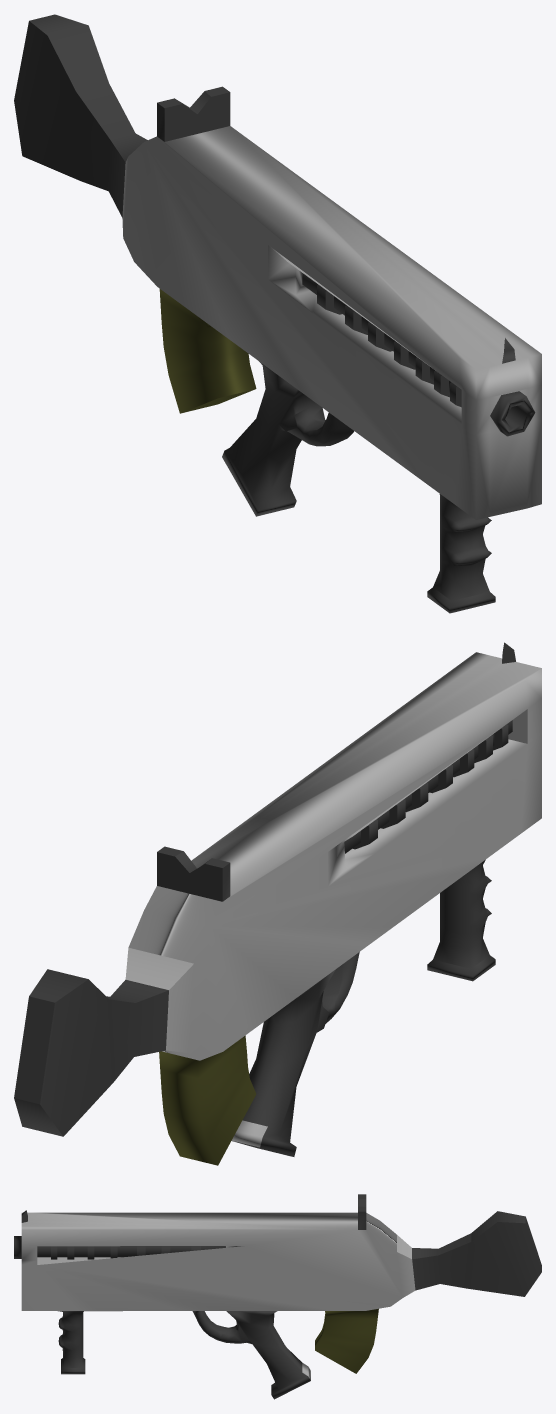
Rendered from ASSAULT_RIFLE.fbx.
3 renders of one model, top to bottom at view 1: azimuth 30°, elevation 25°; view 2: azimuth 150°, elevation 25°; view 3: azimuth 270°, elevation 25°, orthographic. The views are drawn at different scales.
Visible parts, largest first — view 1: ASSAULT_RIFLE; view 2: ASSAULT_RIFLE; view 3: ASSAULT_RIFLE.
Boxes of the visible parts, x1,y1,x2,y2 form: ASSAULT_RIFLE: (14,14,541,613); ASSAULT_RIFLE: (14,642,541,1165); ASSAULT_RIFLE: (14,1194,541,1399).
Size of the model in its own units: 1.83 by 9.28 by 23.2.
